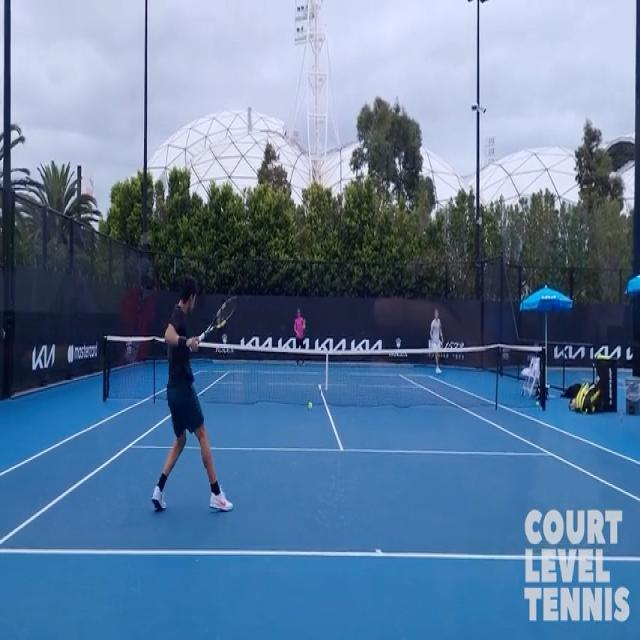forehand-ready: (148, 269, 244, 526)
